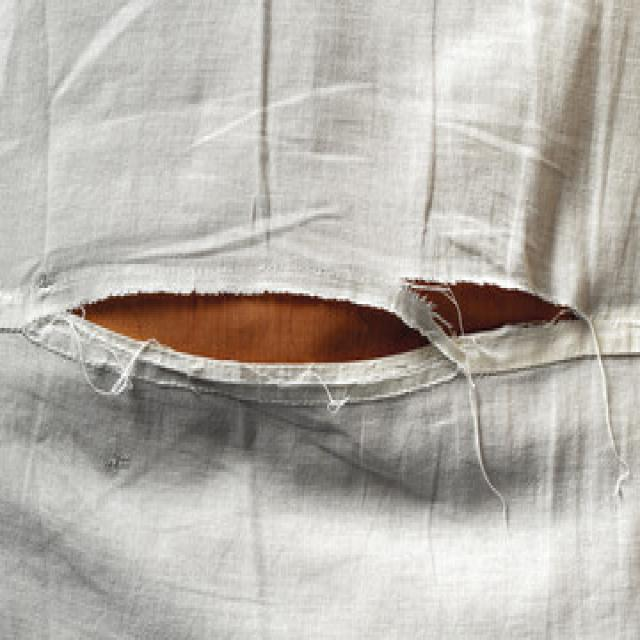Hole: (82, 293, 428, 364), (410, 280, 578, 336)
